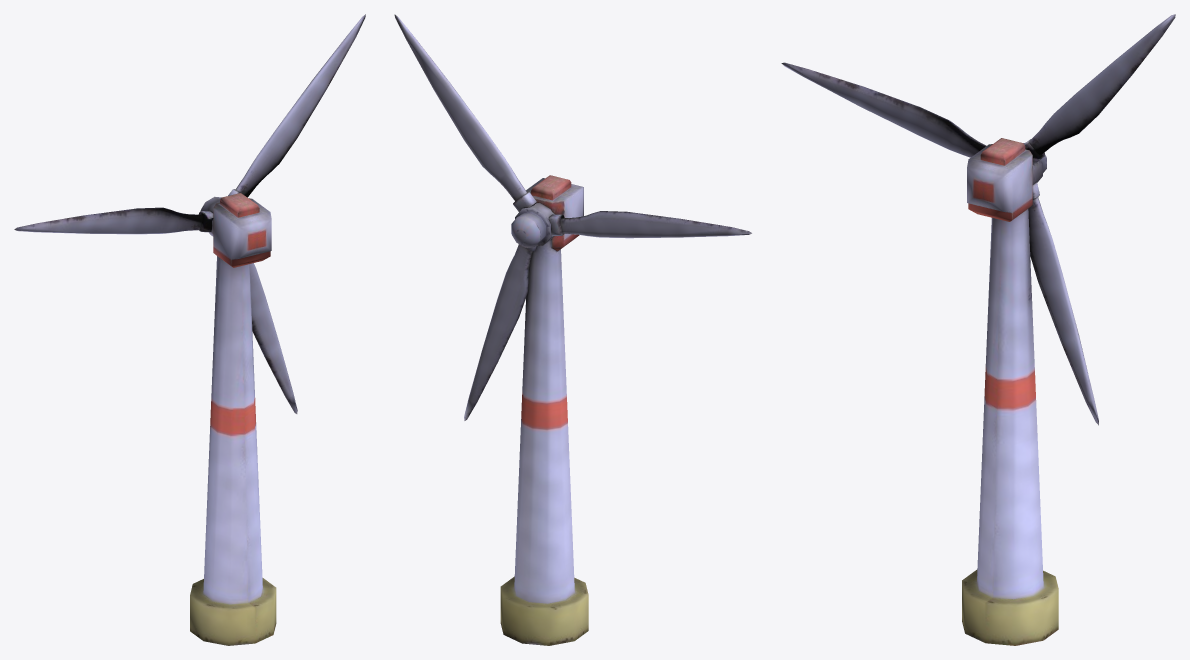
File: Windmill.glb
3 views of the same model, side by side, from view 1: azimuth 30°, elevation 25°; view 2: azimuth 150°, elevation 25°; view 3: azimuth 330°, elevation 25° (orthographic). The views are drawn at different scales.
Visible parts, largest first — view 1: windmill_low; view 2: windmill_low; view 3: windmill_low.
Boxes of the visible parts, x1,y1,x2,y2 form: windmill_low: (14, 14, 365, 645); windmill_low: (394, 14, 751, 645); windmill_low: (781, 14, 1175, 645).
Size of the model in its own units: 23.81 by 37.1 by 5.49.
1 material, 1 textured.
